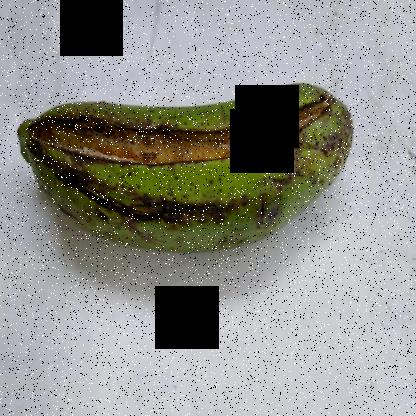rotten: (1, 60, 360, 257)
